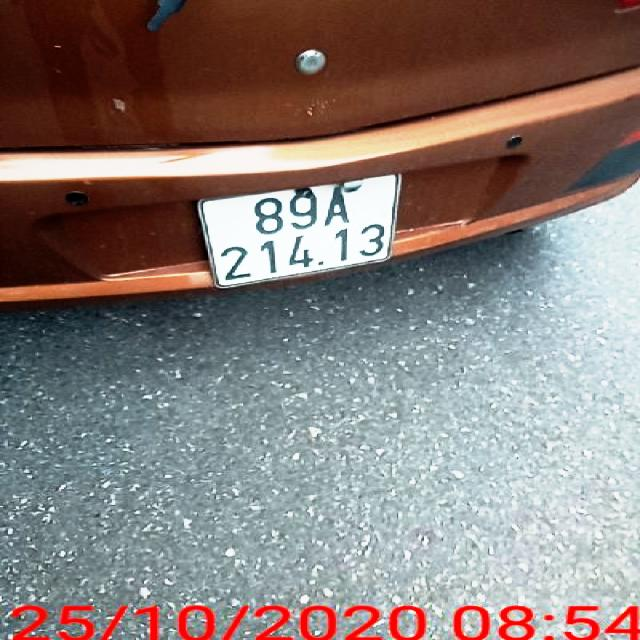license_plate: (197, 171, 405, 289)
